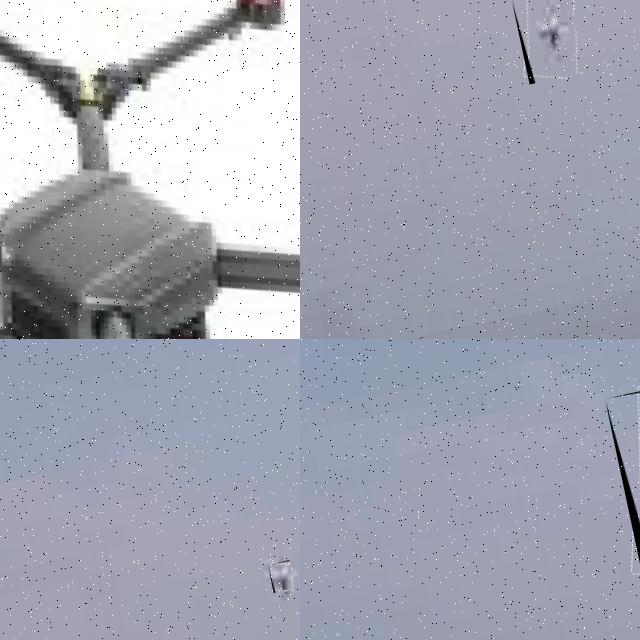drone: (0, 0, 300, 339), (604, 372, 640, 590), (511, 0, 585, 84), (267, 560, 295, 592)
